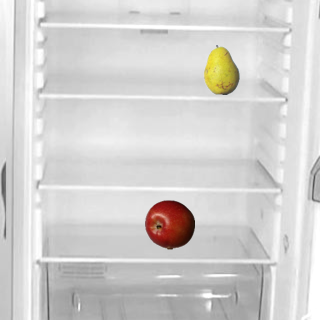Apple Braeburn: (144, 199, 194, 249)
Pear Monster: (196, 44, 246, 94)
